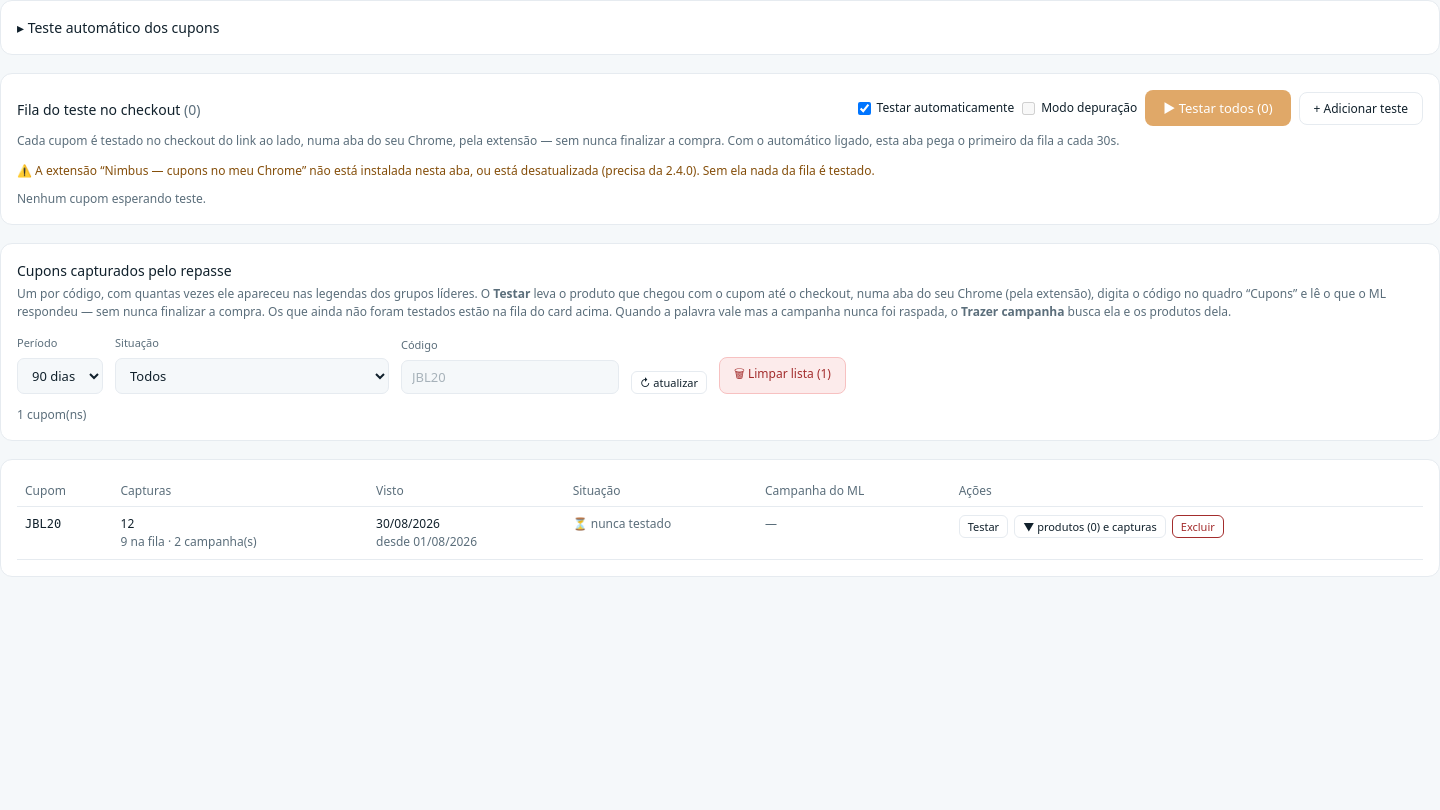
it: Admin › Cupom › Repasse › testar manda a palavra com origem 'repasse' e atualiza a linha no lugar
Click the button "Testar".
click(983, 526)  # box [959, 514, 1008, 538]
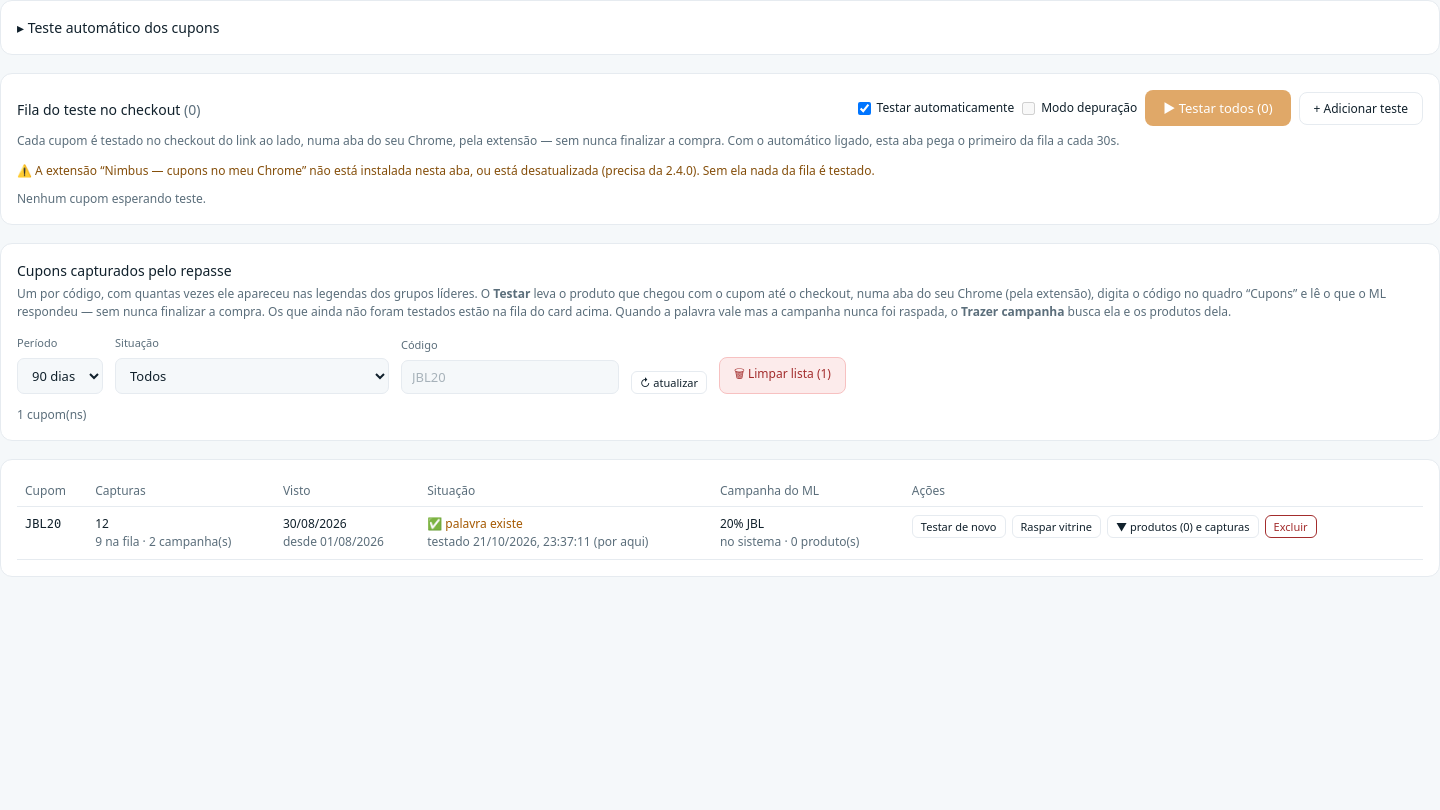
Result: the text "20% JBL" is shown at [720, 514, 764, 532]
Result: the text "✅ palavra existe" is shown at [427, 514, 523, 532]
